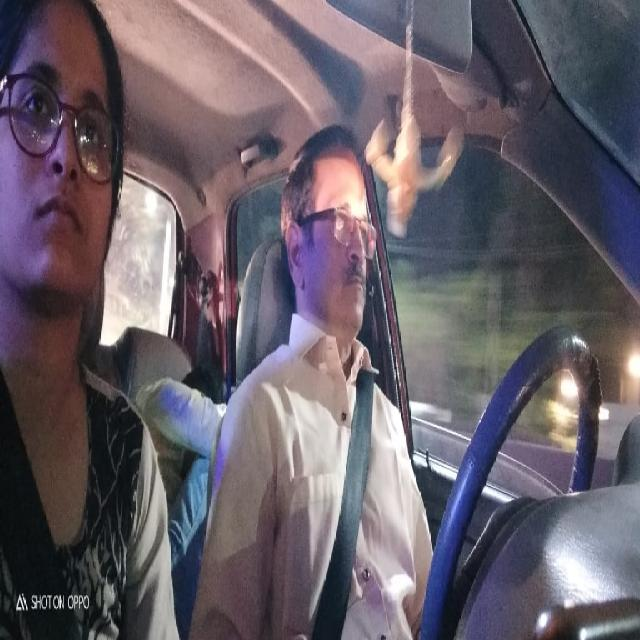person: (1, 0, 132, 318), (279, 118, 381, 350)
